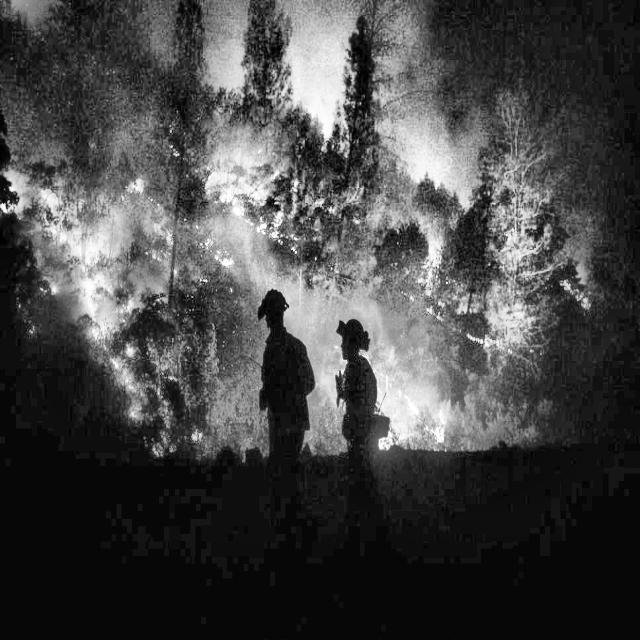fire: (276, 188, 498, 599), (28, 90, 150, 474)
